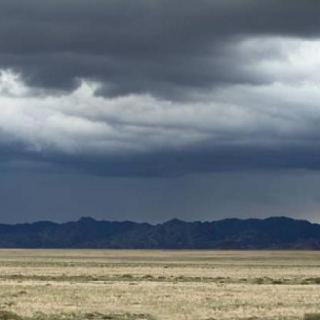Nimbostratus: (0, 0, 320, 218)
